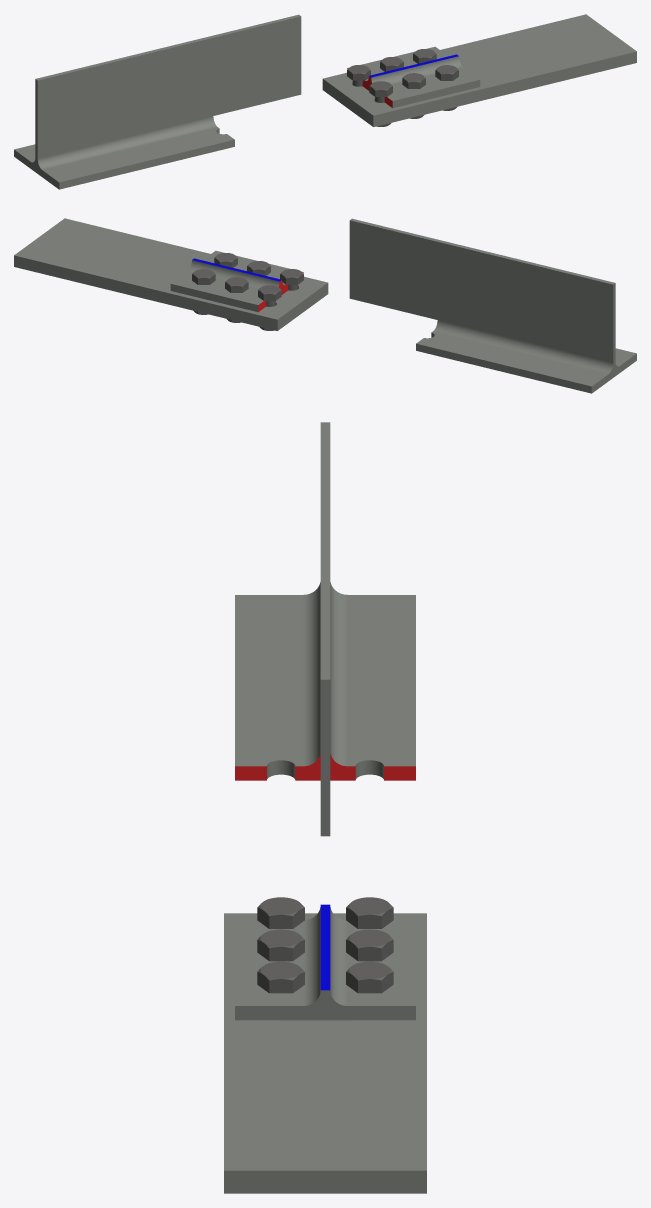
3 views of the same model, one above another, from view 1: azimuth 30°, elevation 25°; view 2: azimuth 150°, elevation 25°; view 3: azimuth 270°, elevation 25° (orthographic). The views are drawn at different scales.
Visible parts, largest first — view 1: WT8x25, PL1x8, WT8x25.001, Bolt; view 2: WT8x25, PL1x8, WT8x25.001, Bolt; view 3: PL1x8, WT8x25, WT8x25.001, Bolt.
Part boxes in pixels (box(x1,y1,x2,y2)): WT8x25: box(14, 14, 301, 189); PL1x8: box(322, 14, 636, 126); WT8x25.001: box(347, 46, 480, 108); Bolt: box(347, 49, 458, 126); WT8x25: box(349, 218, 636, 393); PL1x8: box(14, 218, 328, 330); WT8x25.001: box(170, 250, 303, 312); Bolt: box(192, 253, 303, 330); PL1x8: box(224, 913, 426, 1193); WT8x25: box(235, 422, 415, 836); WT8x25.001: box(235, 904, 415, 1020); Bolt: box(257, 897, 393, 993).
Size of the model in its own units: 1.33 by 0.2581 by 0.2032.
